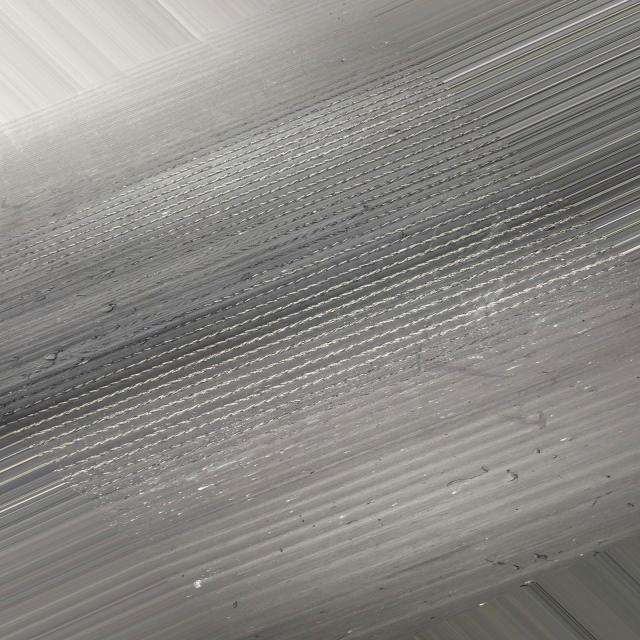Wear: (0, 62, 602, 537)
